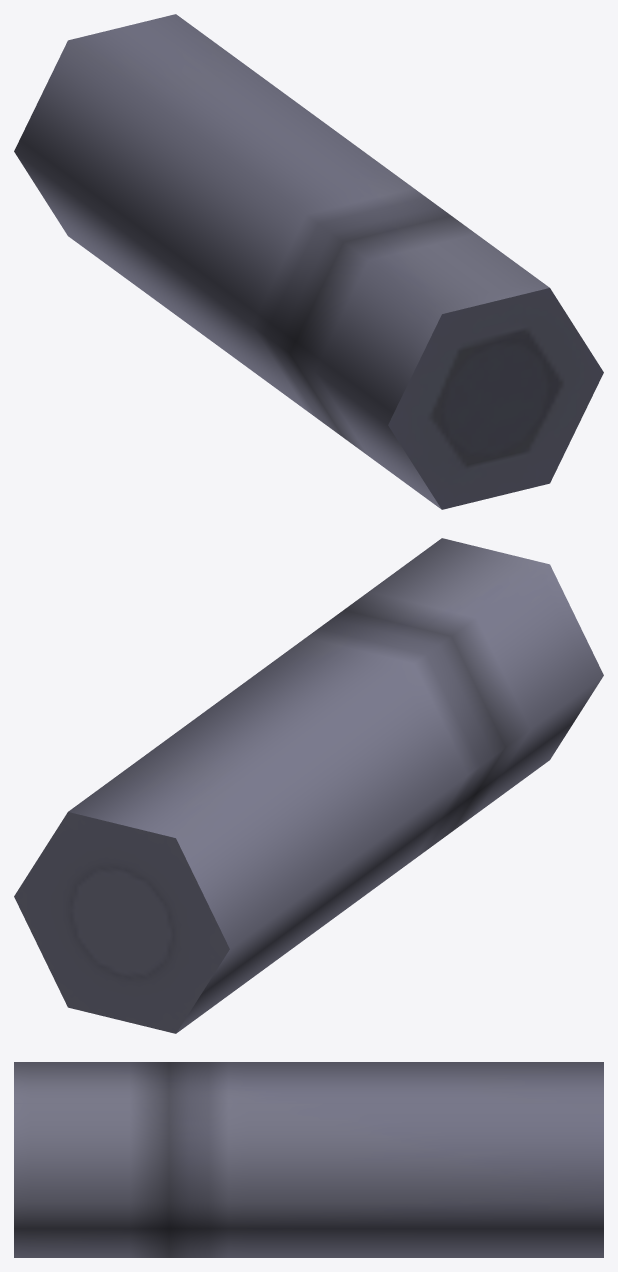
File: obj_interactive_suspensionoffroad_off_lod1.fbx
3 renders of one model, top to bottom at view 1: azimuth 30°, elevation 25°; view 2: azimuth 150°, elevation 25°; view 3: azimuth 270°, elevation 25°, orthographic. The views are drawn at different scales.
Visible parts, largest first — view 1: obj_interactive_suspensionoffroad_off_lod1; view 2: obj_interactive_suspensionoffroad_off_lod1; view 3: obj_interactive_suspensionoffroad_off_lod1.
Boxes of the visible parts, x1=… form: obj_interactive_suspensionoffroad_off_lod1: x1=14, y1=14, x2=603, y2=509; obj_interactive_suspensionoffroad_off_lod1: x1=14, y1=538, x2=603, y2=1033; obj_interactive_suspensionoffroad_off_lod1: x1=14, y1=1062, x2=603, y2=1257.
Size of the model in its own units: 1 by 0.866 by 3.
Materials: 1 (1 with a texture image).
